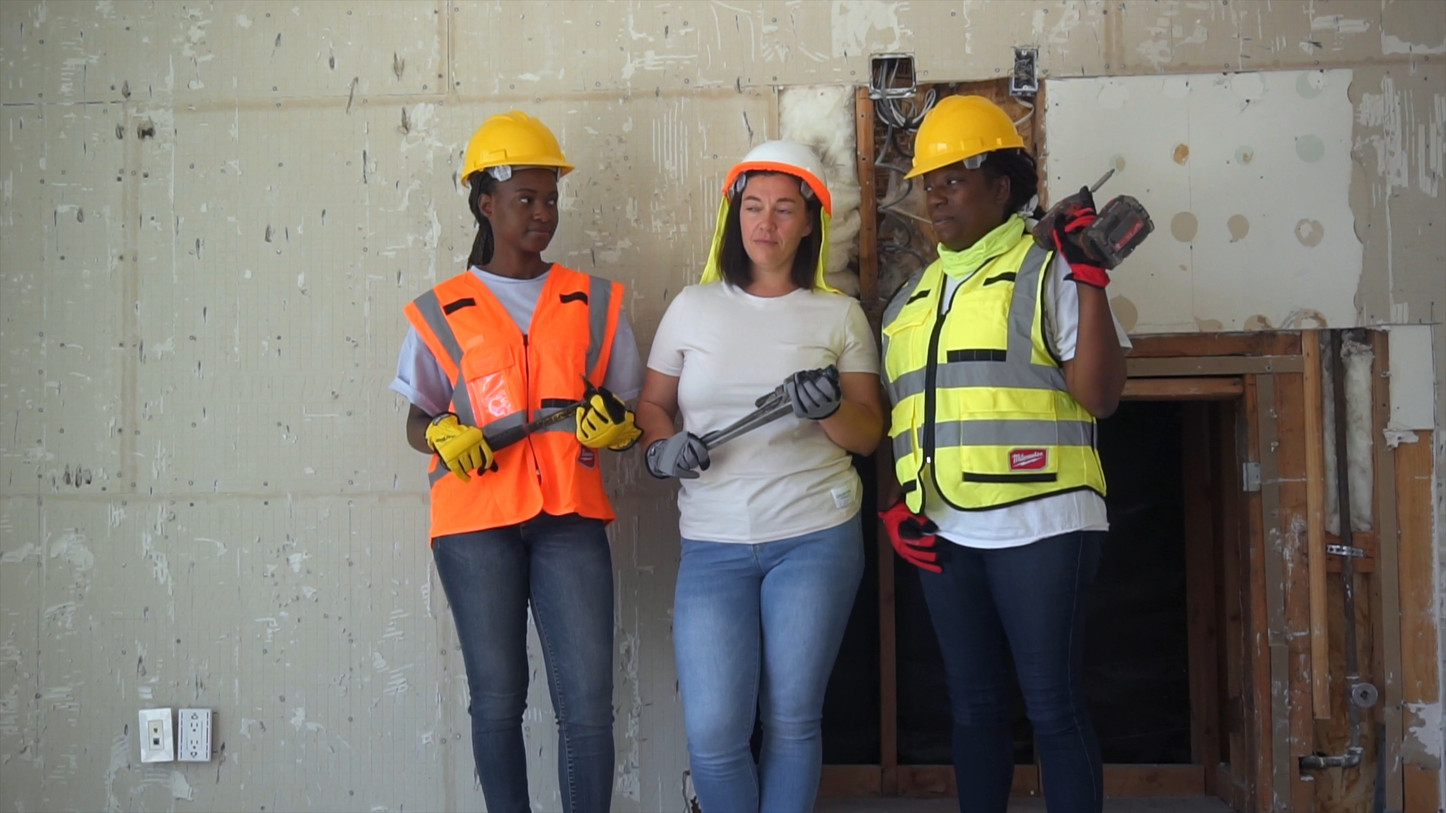gloves: (1034, 193, 1129, 276), (406, 407, 513, 478), (870, 488, 946, 580), (566, 375, 645, 460), (779, 352, 851, 438), (639, 418, 718, 493)
